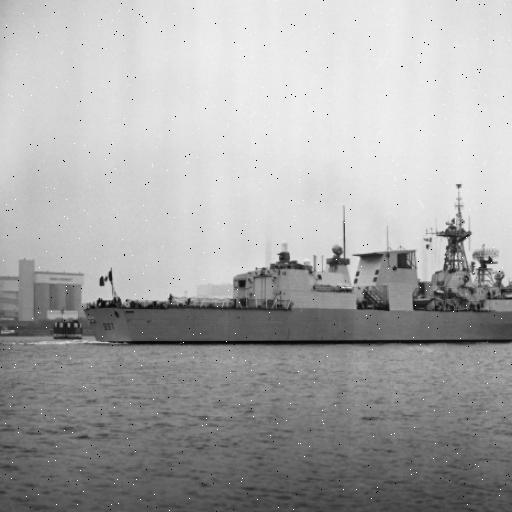Fragata: (73, 174, 512, 348)
